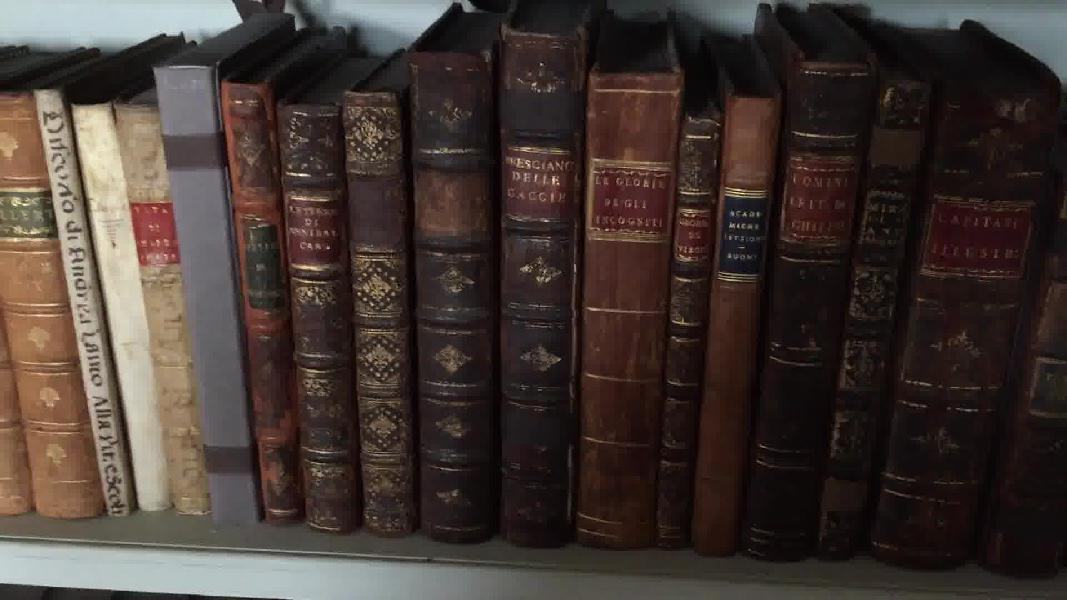Aa6-24: (29, 85, 146, 521)
Aa6-25: (65, 98, 188, 520)
Aa6-26: (112, 93, 223, 524)
Aa6-27: (142, 65, 273, 529)
Aa6-28: (215, 69, 312, 536)
Aa6-29: (270, 96, 362, 543)
Aa6-30: (335, 79, 424, 546)
Aa6-31: (397, 57, 504, 550)
Aa6-32: (492, 20, 583, 558)
Aa6-33: (578, 52, 677, 567)
Aa6-34: (652, 102, 719, 556)
Aa6-35: (700, 90, 779, 559)
Aa6-36: (756, 54, 861, 577)
Aa6-37: (798, 38, 942, 592)
Aa6-38: (848, 7, 1065, 592)
